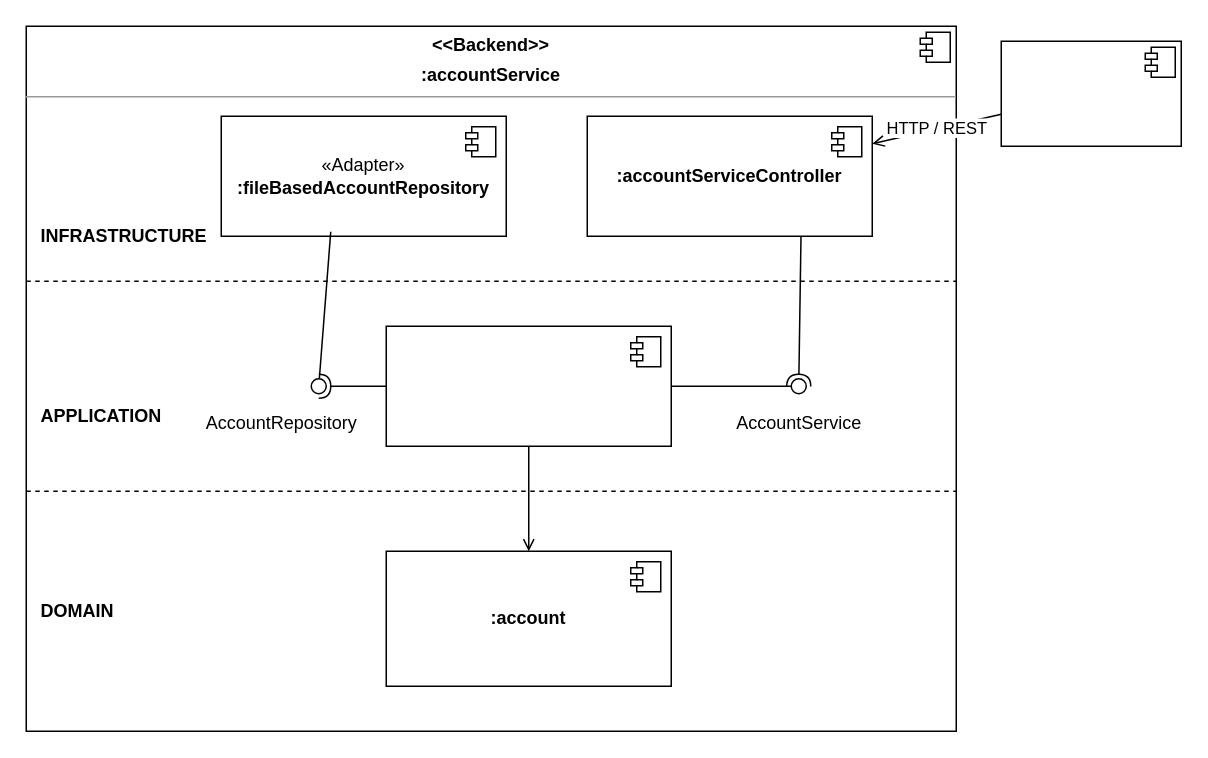
Some shapes in this 1208 by 758 pixel diagram are drawn without their labels. Here are the shapes that lost their labels. From the top down, the box of each, then its label:
(1000, 40, 1181, 146): «Service» :session-service
(385, 325, 671, 446): :accountServiceImpl
